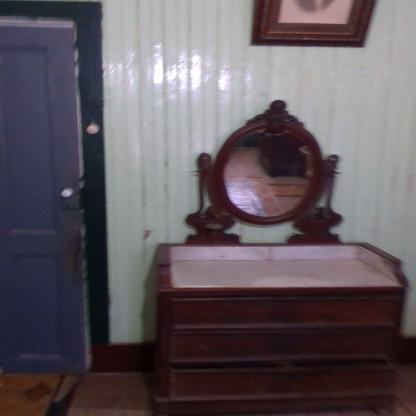door: (0, 25, 84, 376)
knob: (61, 188, 74, 200)
